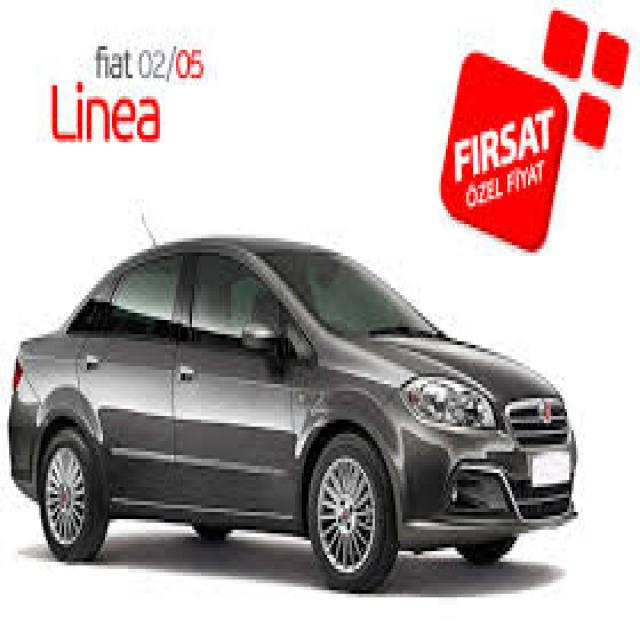Car: (6, 227, 581, 591)
